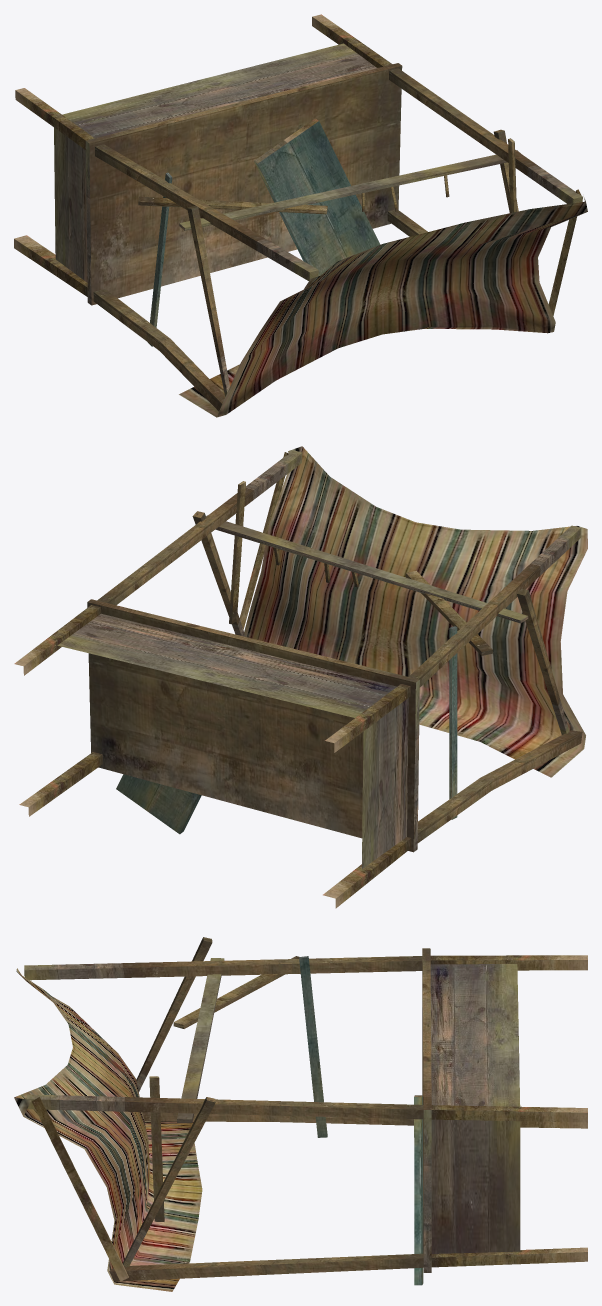
Rendered from prop_market_stands3.glb.
3 views of the same model, one above another, from view 1: azimuth 30°, elevation 25°; view 2: azimuth 150°, elevation 25°; view 3: azimuth 270°, elevation 25° (orthographic). The views are drawn at different scales.
Size of the model in its own units: 85.82 by 53.83 by 116.
Materials: 1 (1 with a texture image).
